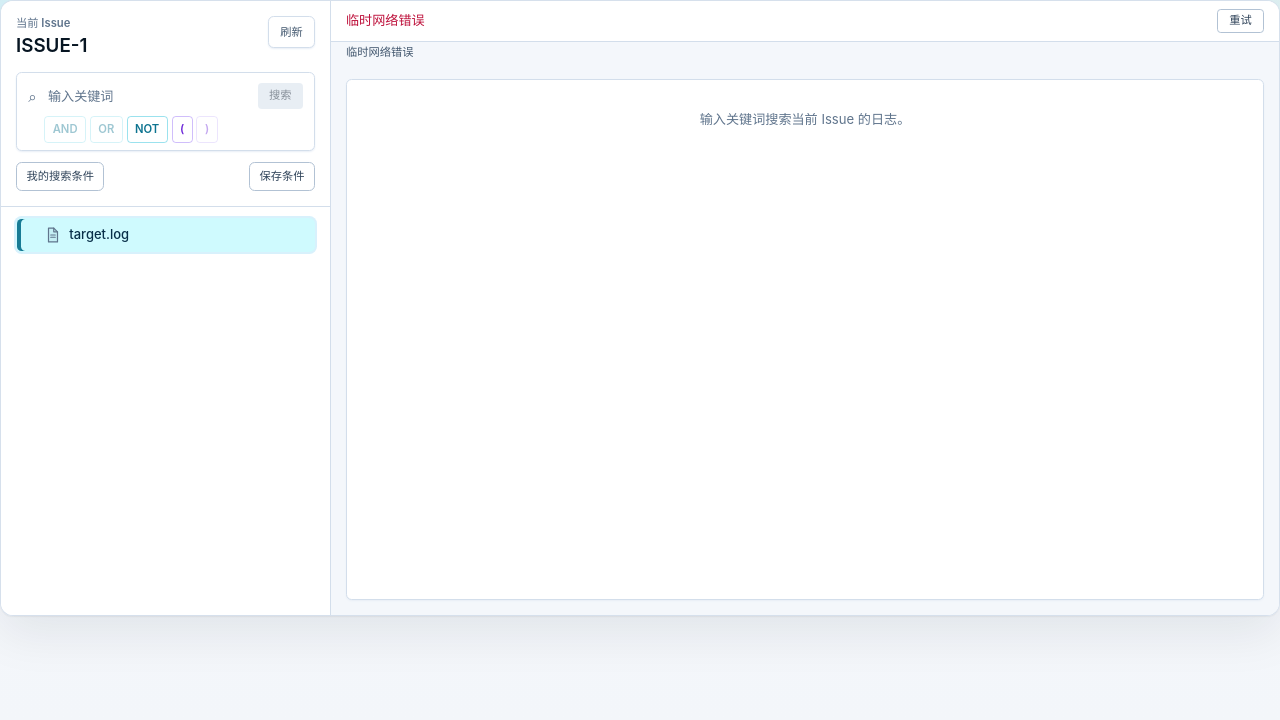
Test case: shared file search restoration › shows a failed restore and retries it without duplicating the result tab
Check: the message reads "临时网络错误", box [346,12,425,28]
Click the button "重试" at (1240, 21), box [1217,8,1264,33]
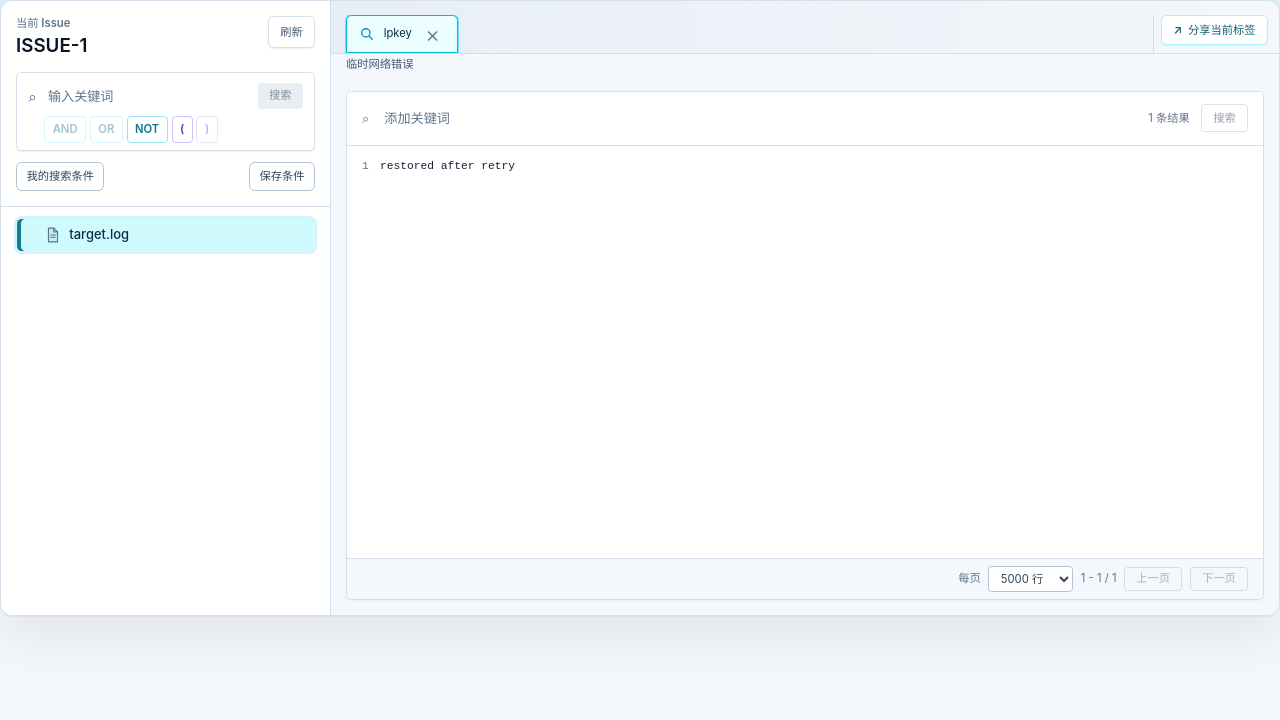
Check: the text "restored after retry" is shown, box [380,160,515,172]
Check: the number of buttons "lpkey" is 1, box [384,26,412,41]
